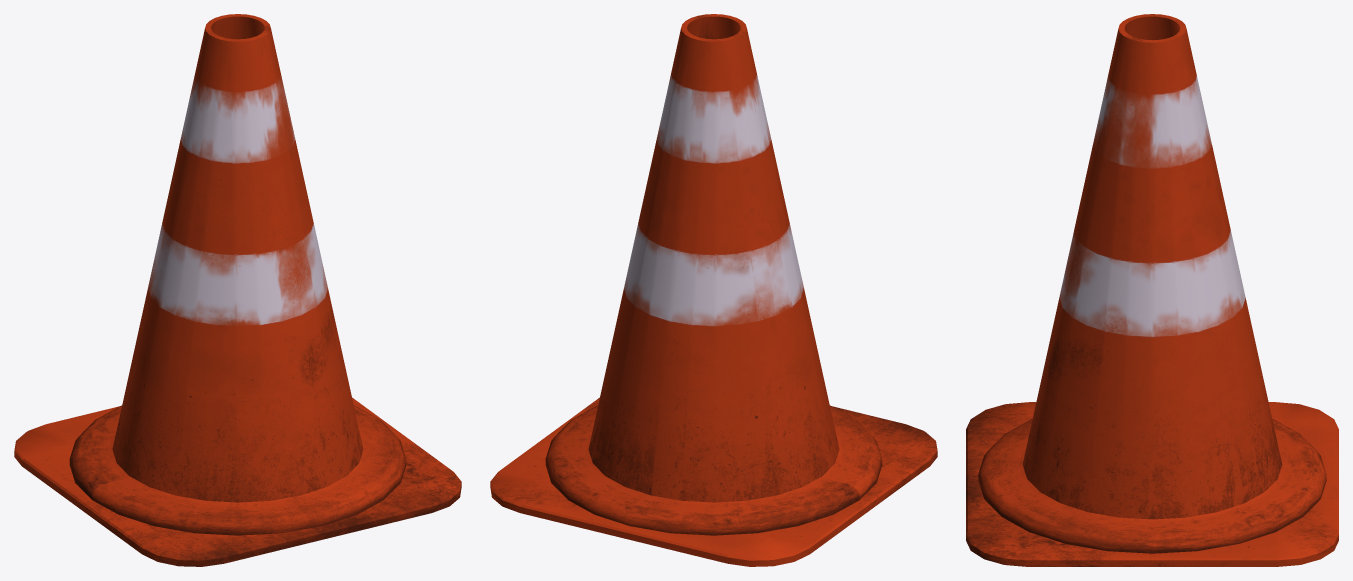
The model's file is absperrhut.obj.
The picture shows the model from 3 angles, left to right: view 1: azimuth 30°, elevation 25°; view 2: azimuth 150°, elevation 25°; view 3: azimuth 270°, elevation 25°; orthographic projection. The views are drawn at different scales.
Visible parts, largest first — view 1: absperrhut; view 2: absperrhut; view 3: absperrhut.
Part boxes in pixels (x1=…): absperrhut: x1=14, y1=14, x2=461, y2=566; absperrhut: x1=490, y1=14, x2=937, y2=566; absperrhut: x1=966, y1=14, x2=1338, y2=566.
Size of the model in its own units: 0.3999 by 0.5449 by 0.4004.
